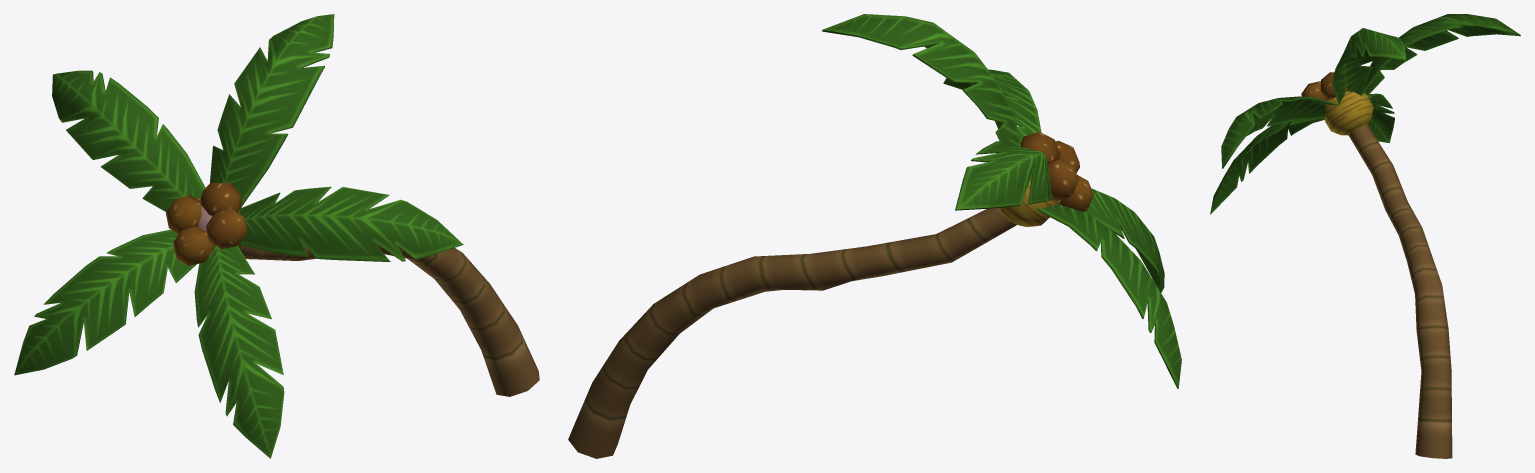
Rendered from palmTree2.FBX.
The picture shows the model from 3 angles, left to right: view 1: azimuth 30°, elevation 25°; view 2: azimuth 150°, elevation 25°; view 3: azimuth 270°, elevation 25°; orthographic projection. The views are drawn at different scales.
Visible parts, largest first — view 1: PalmTree2; view 2: PalmTree2; view 3: PalmTree2.
Part boxes in pixels (<box>): PalmTree2: <box>14,14,539,458</box>; PalmTree2: <box>568,14,1181,458</box>; PalmTree2: <box>1210,14,1520,458</box>.
Size of the model in its own units: 425 by 332 by 276.
